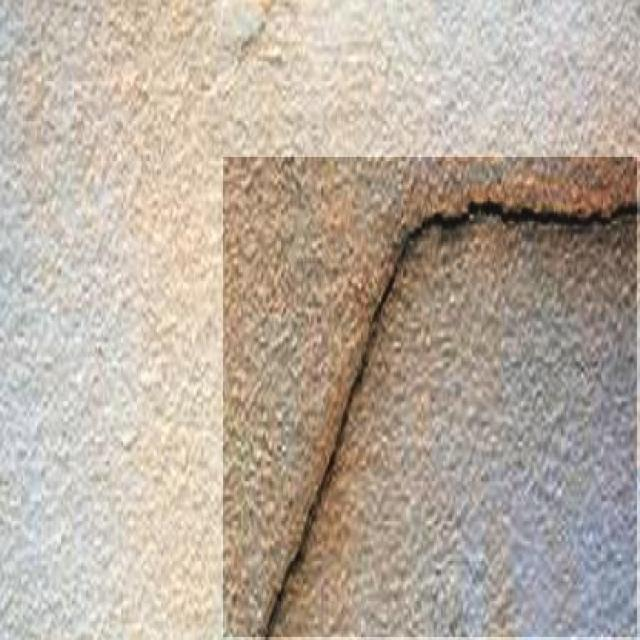Crack: (231, 182, 640, 638)
